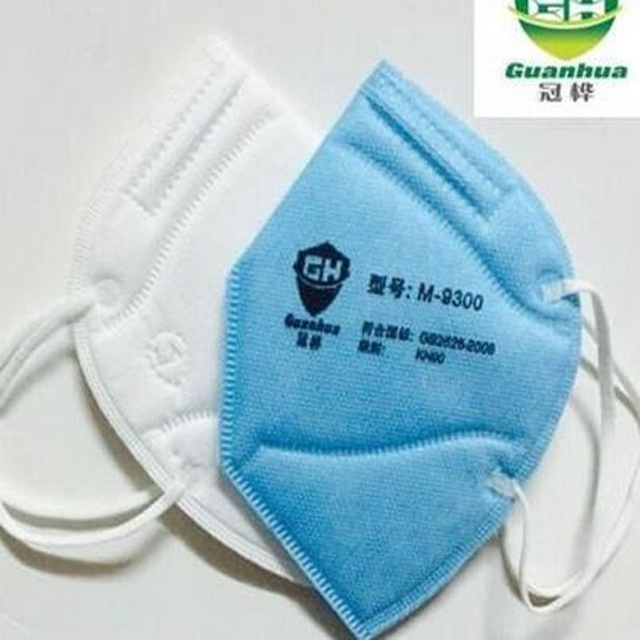mask: (222, 50, 640, 640), (2, 48, 357, 594)
